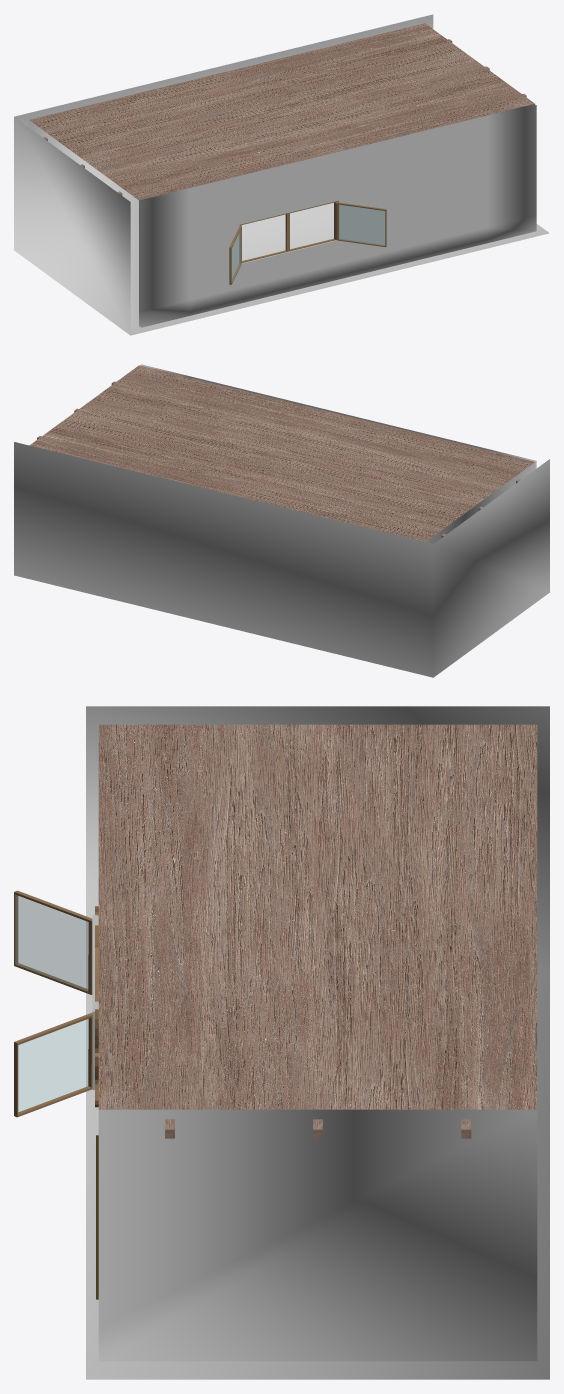
3 renders of one model, top to bottom at view 1: azimuth 30°, elevation 25°; view 2: azimuth 150°, elevation 25°; view 3: azimuth 270°, elevation 25°, orthographic. The views are drawn at different scales.
Parts seen in each view (by area): view 1: 部屋, 立方体; view 2: 部屋; view 3: 部屋, 立方体.
Boxes of the visible parts, <box> form: 部屋: <box>14,14,549,335</box>; 立方体: <box>229,201,386,284</box>; 部屋: <box>14,364,549,677</box>; 部屋: <box>86,706,549,1379</box>; 立方体: <box>14,890,98,1117</box>.
Size of the model in its own units: 19126 by 5825 by 10632.
